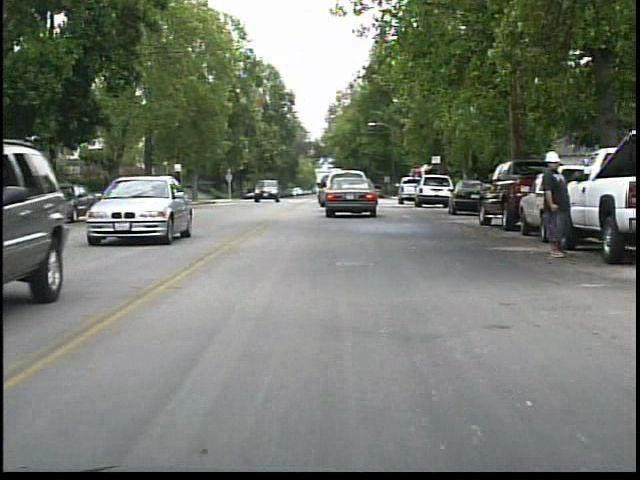person: (532, 143, 572, 262)
